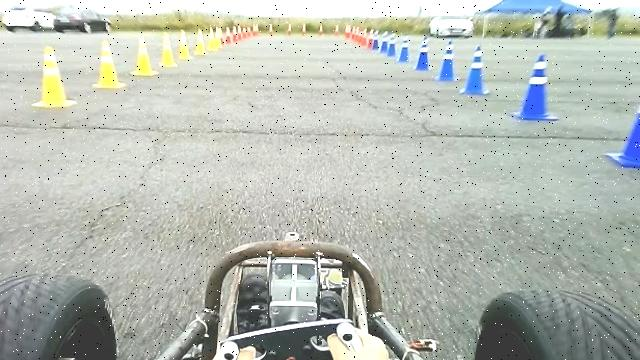blue cone: (511, 53, 560, 121), (460, 44, 490, 94), (434, 39, 462, 81), (414, 35, 432, 71), (397, 34, 411, 63)
red cone: (232, 25, 239, 42), (226, 26, 232, 43)
yellow cone: (32, 45, 77, 107), (92, 38, 126, 88), (131, 34, 159, 76), (159, 31, 178, 67), (179, 28, 192, 58), (195, 27, 208, 55), (208, 26, 219, 51)
